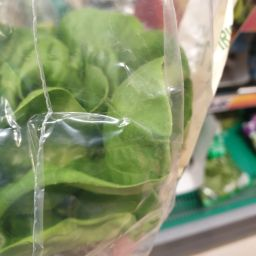Spinach: (10, 20, 127, 245)
